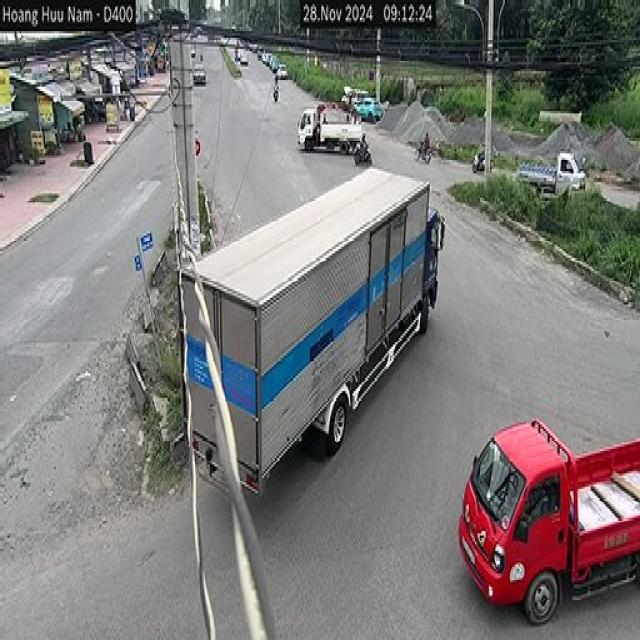truck: (165, 150, 448, 494), (452, 397, 640, 628), (292, 98, 370, 158)
